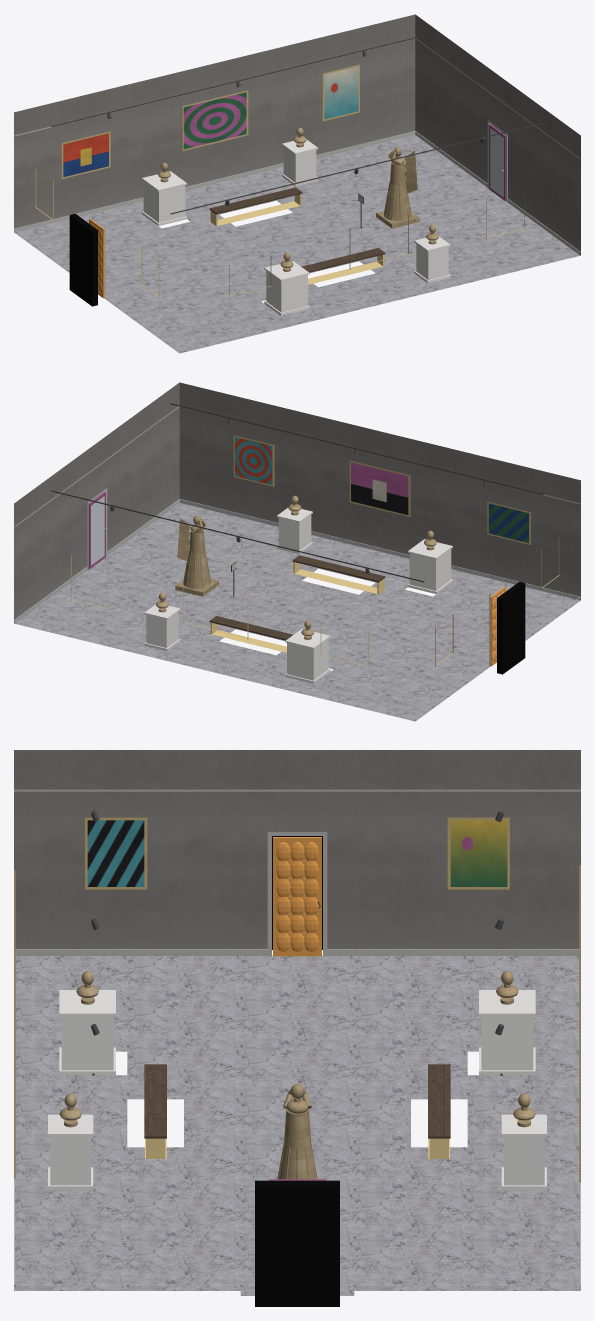
The model's file is rdwe_dont_look.glb.
3 views of the same model, one above another, from view 1: azimuth 30°, elevation 25°; view 2: azimuth 150°, elevation 25°; view 3: azimuth 270°, elevation 25° (orthographic). The views are drawn at different scales.
Visible parts, largest first — view 1: Plaster_White, Marble_Floor, Plinth_White, Paintings, Trim_Grey, Void_Black, Statue, Frame_Gilt, Iron, Wood_Oak, Steel, DoorLeaf_statue (+2 smaller); view 2: Plaster_White, Marble_Floor, Plinth_White, Paintings, Trim_Grey, Void_Black, Statue, Frame_Gilt, Iron, Wood_Oak, Steel, DoorLeaf_statue (+2 smaller); view 3: Marble_Floor, Plaster_White, Plinth_White, Void_Black, Paintings, Trim_Grey, DoorLeaf_mirror, Wood_Oak, Frame_Gilt, Statue, Marble, Steel.
Part boxes in pixels (box(x1,y1,x2,y2)): Plaster_White: box(14, 14, 580, 255); Marble_Floor: box(14, 135, 580, 353); Plinth_White: box(142, 139, 450, 315); Paintings: box(63, 66, 358, 177); Trim_Grey: box(14, 38, 580, 349); Void_Black: box(69, 213, 97, 306); Statue: box(376, 147, 419, 228); Frame_Gilt: box(35, 64, 526, 299); Iron: box(51, 35, 543, 228); Wood_Oak: box(209, 187, 385, 272); Steel: box(210, 194, 384, 284); DoorLeaf_statue: box(489, 124, 506, 201); Plaster_White: box(14, 382, 580, 623); Marble_Floor: box(14, 503, 580, 721); Plinth_White: box(144, 507, 452, 683); Paintings: box(235, 437, 528, 542); Trim_Grey: box(14, 406, 580, 717); Void_Black: box(497, 581, 525, 674); Statue: box(175, 515, 218, 596); Frame_Gilt: box(70, 435, 559, 667); Iron: box(51, 403, 543, 596); Wood_Oak: box(209, 555, 385, 640); Steel: box(210, 562, 384, 652); DoorLeaf_statue: box(88, 492, 106, 569); Marble_Floor: box(14, 955, 580, 1295); Plaster_White: box(14, 750, 580, 949); Plinth_White: box(48, 990, 546, 1190); Void_Black: box(255, 836, 339, 1306); Paintings: box(87, 820, 507, 886); Trim_Grey: box(14, 789, 580, 1284); DoorLeaf_mirror: box(273, 837, 321, 956); Wood_Oak: box(144, 1064, 450, 1138); Frame_Gilt: box(14, 817, 580, 1182); Statue: box(277, 1084, 317, 1179); Marble: box(59, 971, 535, 1127); Steel: box(145, 1138, 449, 1158).
Bounding box in the file's own units: 15.1 × 4.05 × 10.
19 materials, 9 textured.
